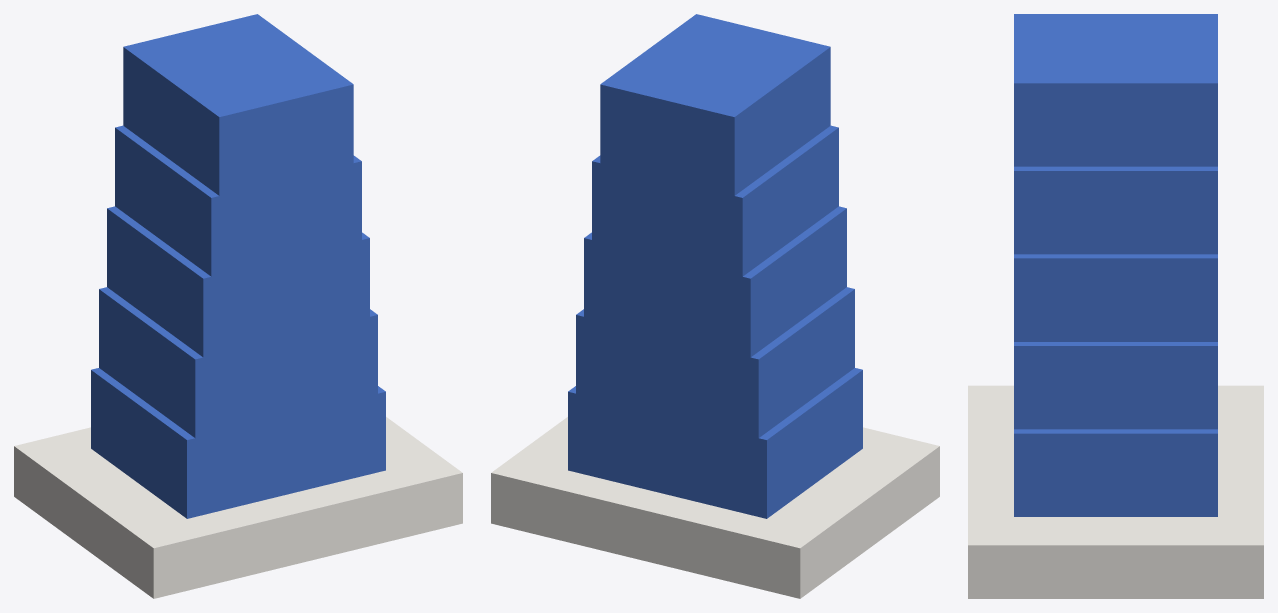
File: bookshelf-lv5.glb
3 renders of one model, left to right at view 1: azimuth 30°, elevation 25°; view 2: azimuth 150°, elevation 25°; view 3: azimuth 270°, elevation 25°, orthographic. The views are drawn at different scales.
Parts seen in each view (by area): view 1: Base, Level5, Level1, Level2, Level3, Level4; view 2: Base, Level5, Level1, Level2, Level3, Level4; view 3: Base, Level5, Level4, Level1, Level2, Level3.
Part boxes in pixels (box(x1,y1,x2,y2)): Base: box(14, 417, 462, 598); Level5: box(123, 14, 353, 195); Level1: box(91, 368, 385, 518); Level2: box(99, 287, 377, 438); Level3: box(107, 206, 369, 357); Level4: box(115, 125, 361, 276); Base: box(491, 417, 939, 598); Level5: box(600, 14, 830, 195); Level1: box(568, 368, 862, 518); Level2: box(576, 287, 854, 438); Level3: box(584, 206, 846, 357); Level4: box(592, 125, 838, 276); Base: box(968, 385, 1263, 598); Level5: box(1014, 14, 1217, 166); Level4: box(1014, 166, 1217, 254); Level1: box(1014, 429, 1217, 516); Level2: box(1014, 342, 1217, 429); Level3: box(1014, 254, 1217, 341).
Bounding box in the file's own units: 1.15 × 1.58 × 0.9.
